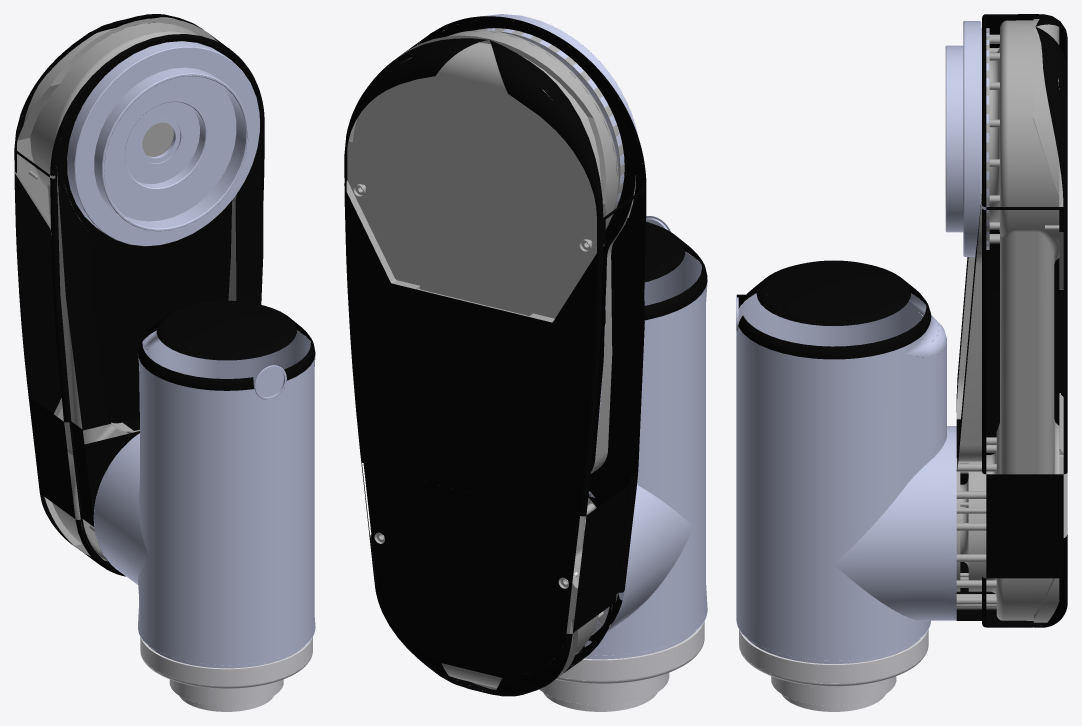
3 renders of one model, left to right at view 1: azimuth 30°, elevation 25°; view 2: azimuth 150°, elevation 25°; view 3: azimuth 270°, elevation 25°, orthographic. The views are drawn at different scales.
Parts seen in each view (by area): view 1: j6.IGS (×7); view 2: j6.IGS (×6); view 3: j6.IGS (×7).
Part boxes in pixels (x1,y1,x2,y2): j6.IGS (×7): (14, 14, 315, 711); j6.IGS (×6): (344, 14, 707, 711); j6.IGS (×7): (736, 14, 1067, 711).
Size of the model in its own units: 0.16 by 0.431 by 0.1954.
